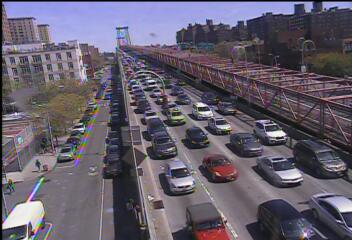neg: (193, 138, 214, 166), (71, 119, 90, 144), (70, 56, 88, 79), (264, 78, 278, 96), (72, 195, 86, 213), (127, 67, 140, 84), (116, 161, 129, 178), (222, 208, 233, 222)
pos: (35, 142, 49, 161), (2, 176, 15, 193), (30, 156, 43, 173), (39, 134, 51, 149)
